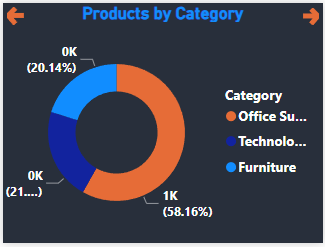

The dashboard page shown, as its layout file describes it:
{"tool":"powerbi","page":{"name":"Product by Category Tooltip","canvas":[320,240],"ordinal":6},"visuals":[{"type":"donutChart","title":"Products by Category","fields":{"Category":["Dim Products.Category"],"Y":["Dim Products.Total Products"]},"box":[0,0,320,240],"z":0},{"type":"actionButton","box":[0,0,28,26],"z":1000},{"type":"actionButton","box":[295,0,25,26],"z":2000}]}

Visuals, with their boxes in screenshot pixels (x1, y1, x2, y2), scaled from the page's 320x240 canvas onto the 325x247 screenshot:
"Products by Category" donutChart: (0,0,324,246)
actionButton: (0,0,28,27)
actionButton: (300,0,324,27)
